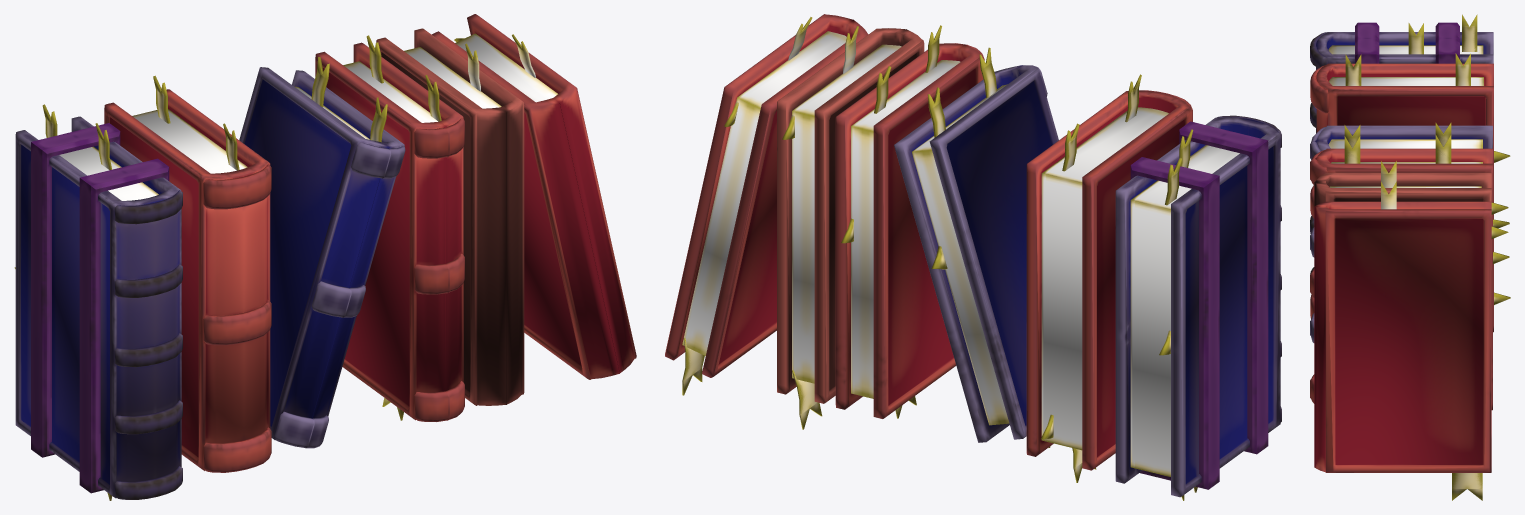
The model's file is book_comb_6_bl.fbx.
The picture shows the model from 3 angles, left to right: view 1: azimuth 30°, elevation 25°; view 2: azimuth 150°, elevation 25°; view 3: azimuth 270°, elevation 25°; orthographic projection. The views are drawn at different scales.
Visible parts, largest first — view 1: Book 6.005; view 2: Book 6.005; view 3: Book 6.005.
Boxes of the visible parts, box(x1,y1,x2,y2) form: Book 6.005: box(14, 14, 636, 500); Book 6.005: box(665, 14, 1281, 500); Book 6.005: box(1310, 14, 1510, 500).
Size of the model in its own units: 910 by 602 by 362.
